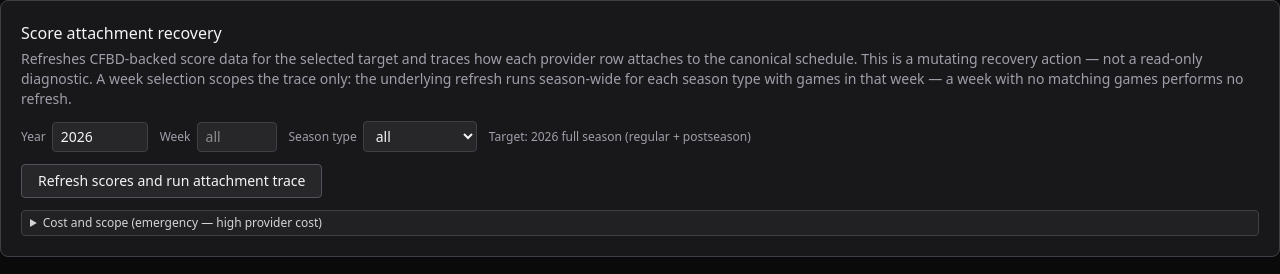
Scenario: a non-2xx response renders only the generic client error
Click the button "Refresh scores and run attachment trace" at (172, 181), box x1=21 y1=164 x2=322 y2=198
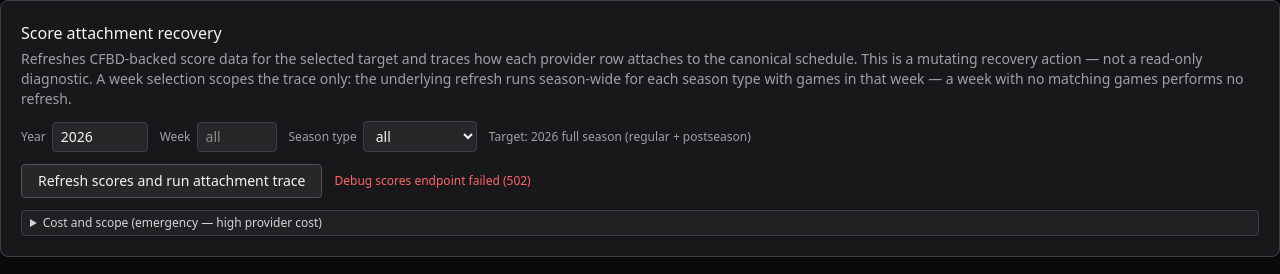
Now the text "Debug scores endpoint failed (502)" is shown, box x1=334 y1=173 x2=531 y2=189
